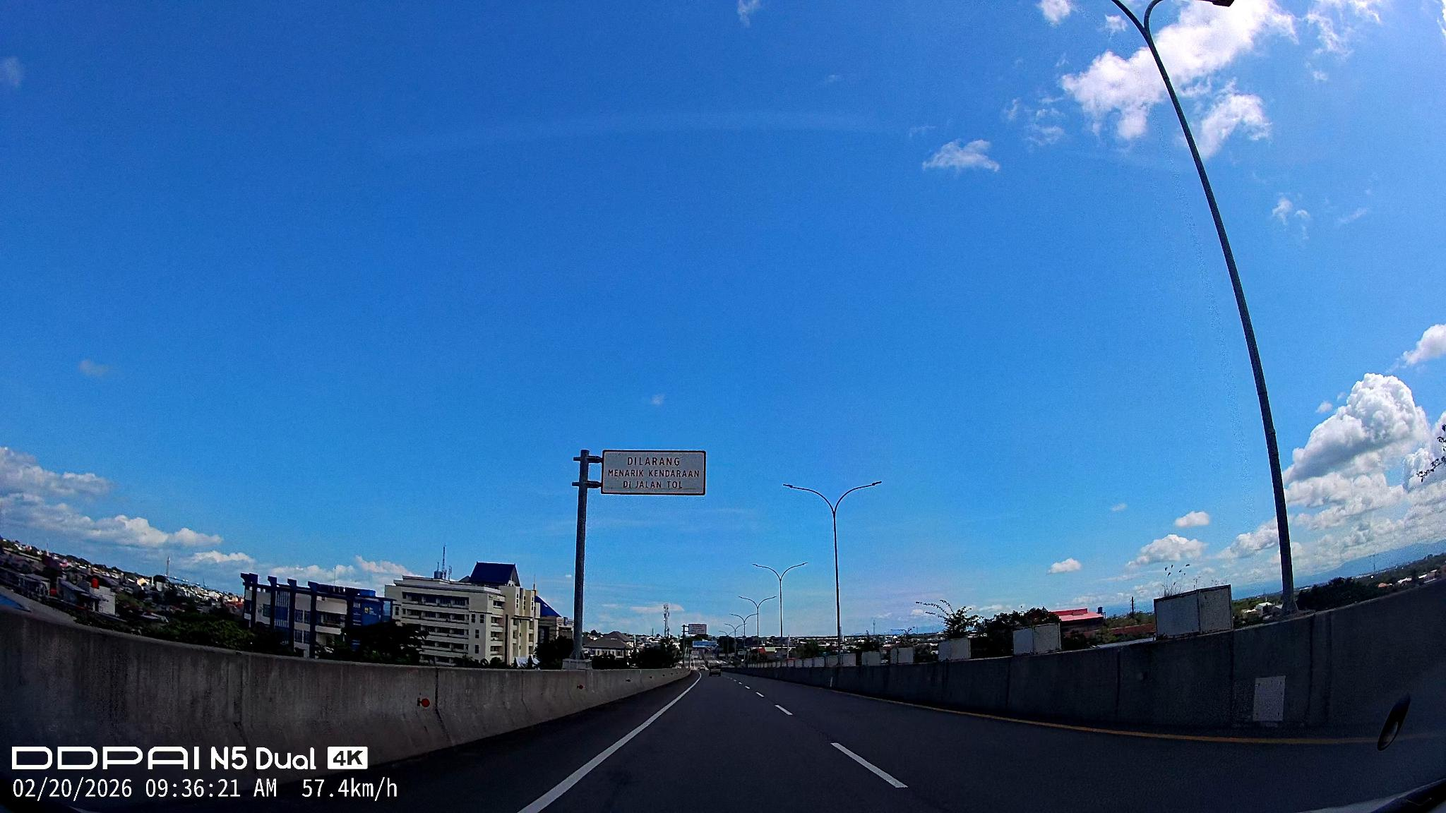rambu_teks: (600, 449, 706, 496)
